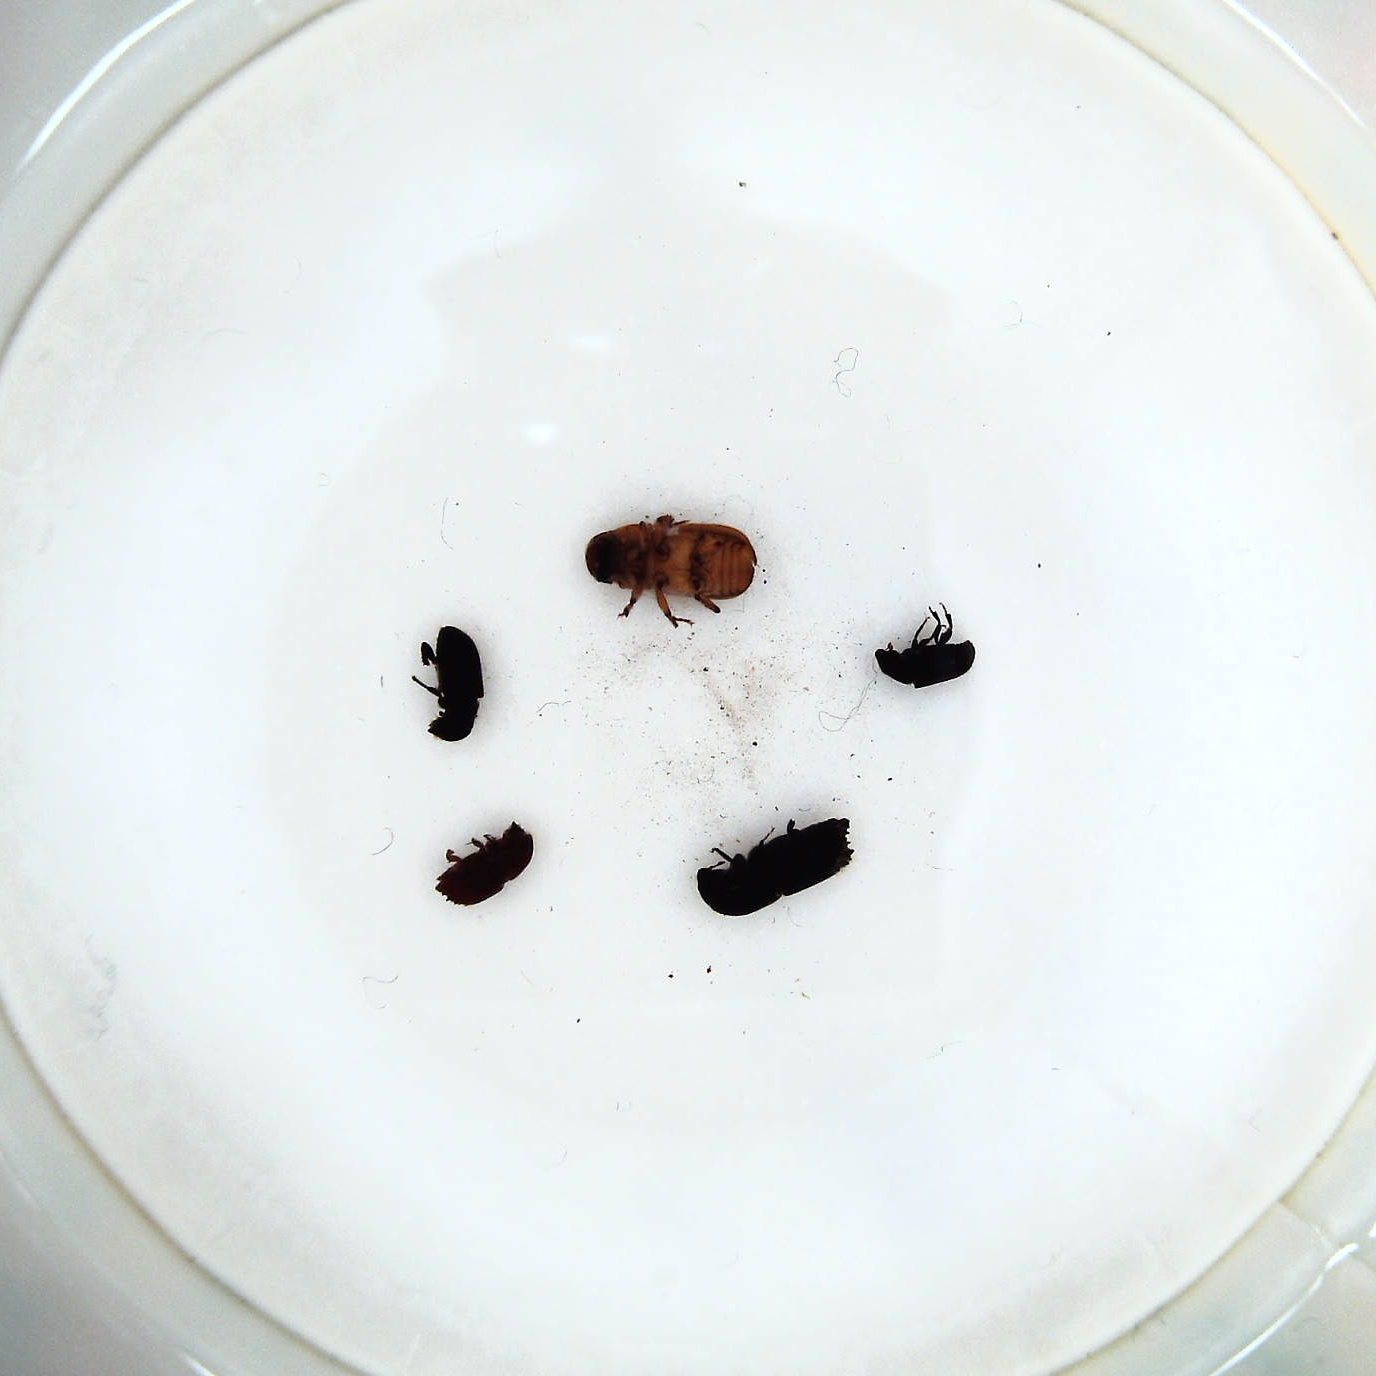Boerner: (693, 820, 859, 922)
Leconte: (583, 513, 764, 628)
armandi: (410, 622, 488, 743)
coleoptera: (871, 605, 979, 693)
linnaeus: (435, 823, 537, 910)
